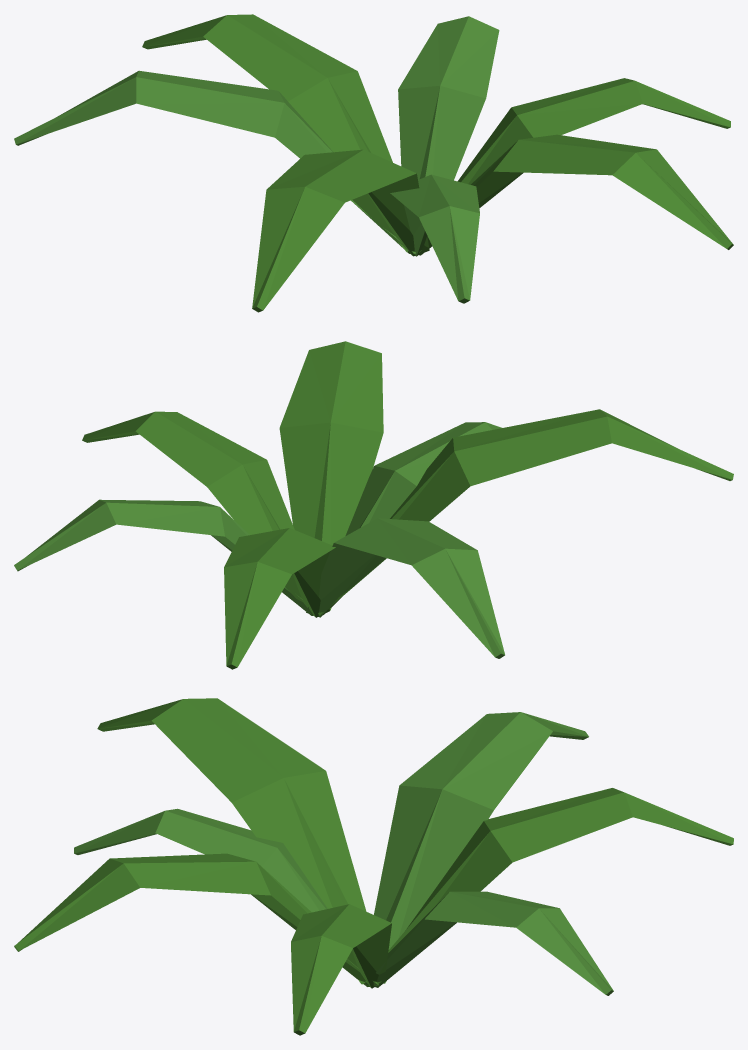
Rendered from HS_LP_Fern_03.fbx.
The picture shows the model from 3 angles, top to bottom: view 1: azimuth 30°, elevation 25°; view 2: azimuth 150°, elevation 25°; view 3: azimuth 270°, elevation 25°; orthographic projection. The views are drawn at different scales.
Visible parts, largest first — view 1: HS_LP_Fern_03; view 2: HS_LP_Fern_03; view 3: HS_LP_Fern_03.
Boxes of the visible parts, x1,y1,x2,y2 form: HS_LP_Fern_03: (14, 14, 733, 312); HS_LP_Fern_03: (14, 341, 733, 669); HS_LP_Fern_03: (14, 698, 733, 1035).
Bounding box in the file's own units: 89.13 × 27.62 × 96.42.
